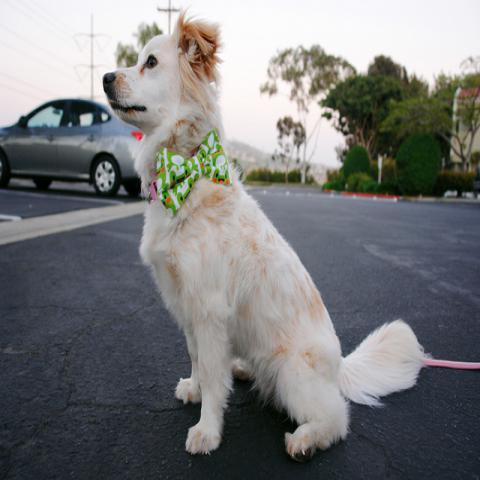car: (2, 94, 142, 196)
